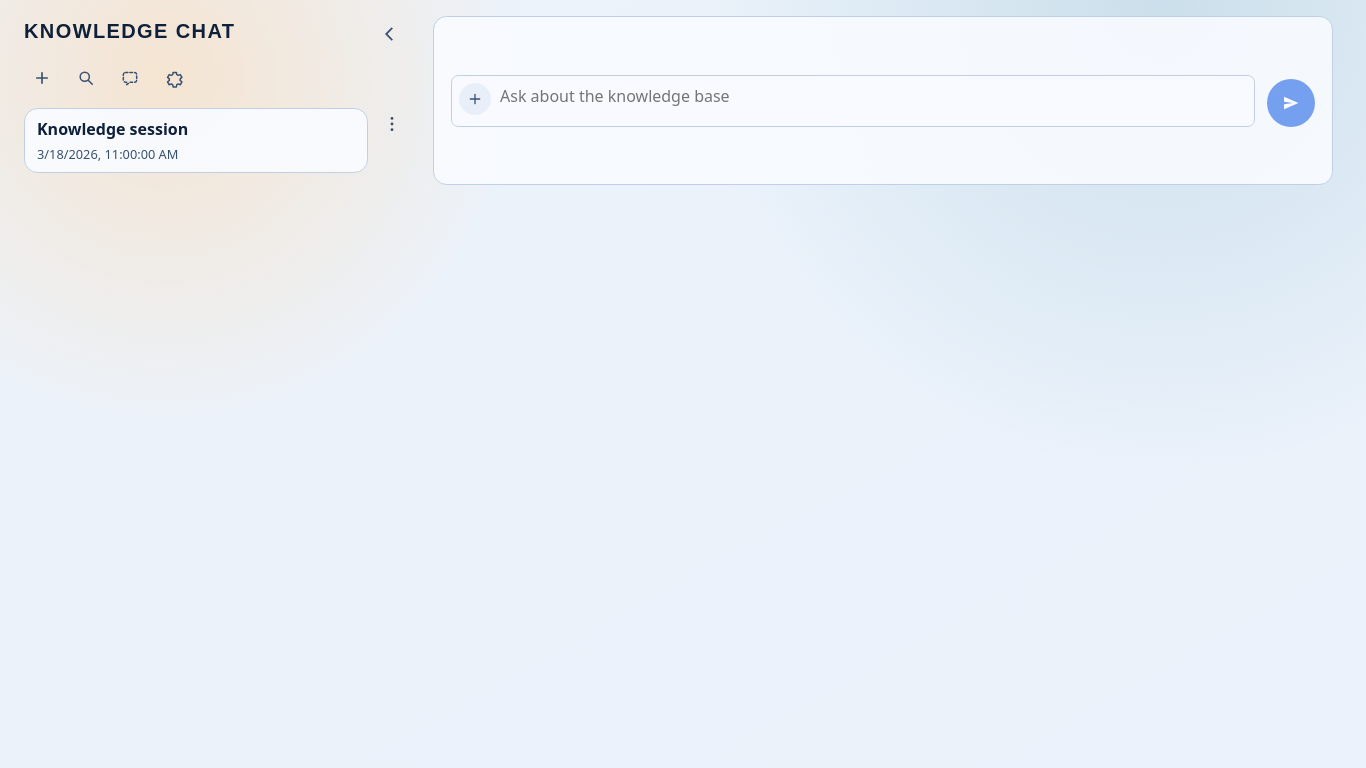
Test: KnowledgePlaygroundPage › collapses the knowledge history into a slim rail while keeping the new-session control available
Click the button named "Chat settings" at [174, 78], box [156, 60, 192, 96]
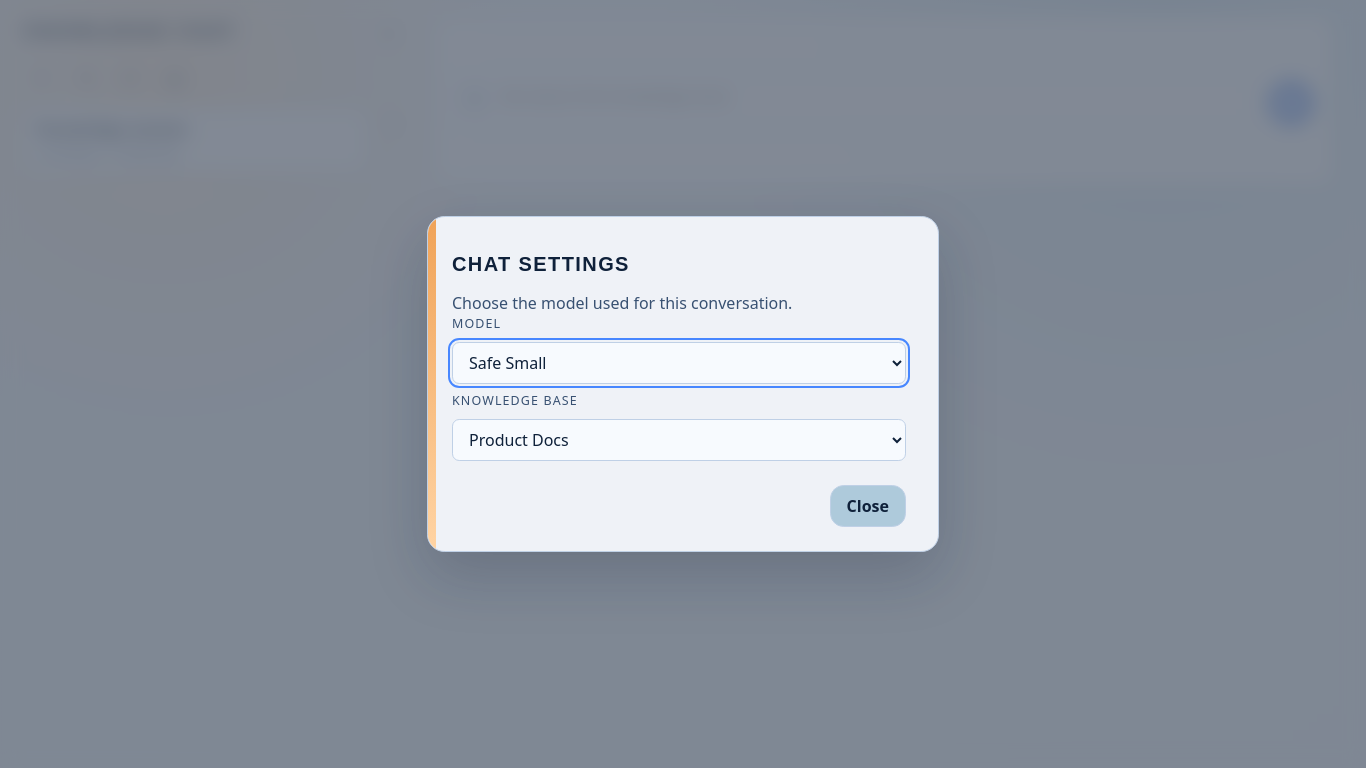
Expected: the dropdown labelled "Knowledge base" shows "Product Docs", [452, 419, 906, 461]
Click the button "Close" at [868, 506], box [830, 485, 906, 527]
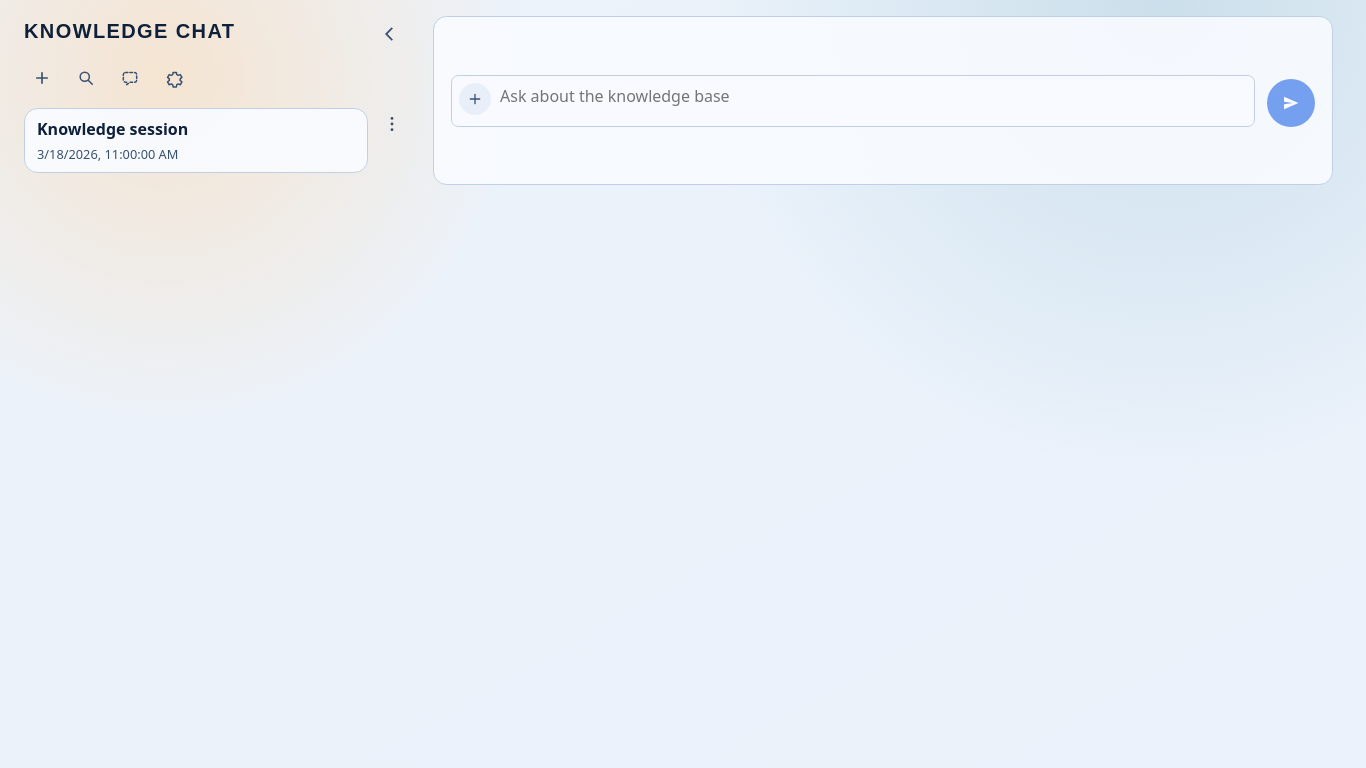
Click the button named "Collapse conversation history" at [390, 34], box [372, 16, 408, 52]
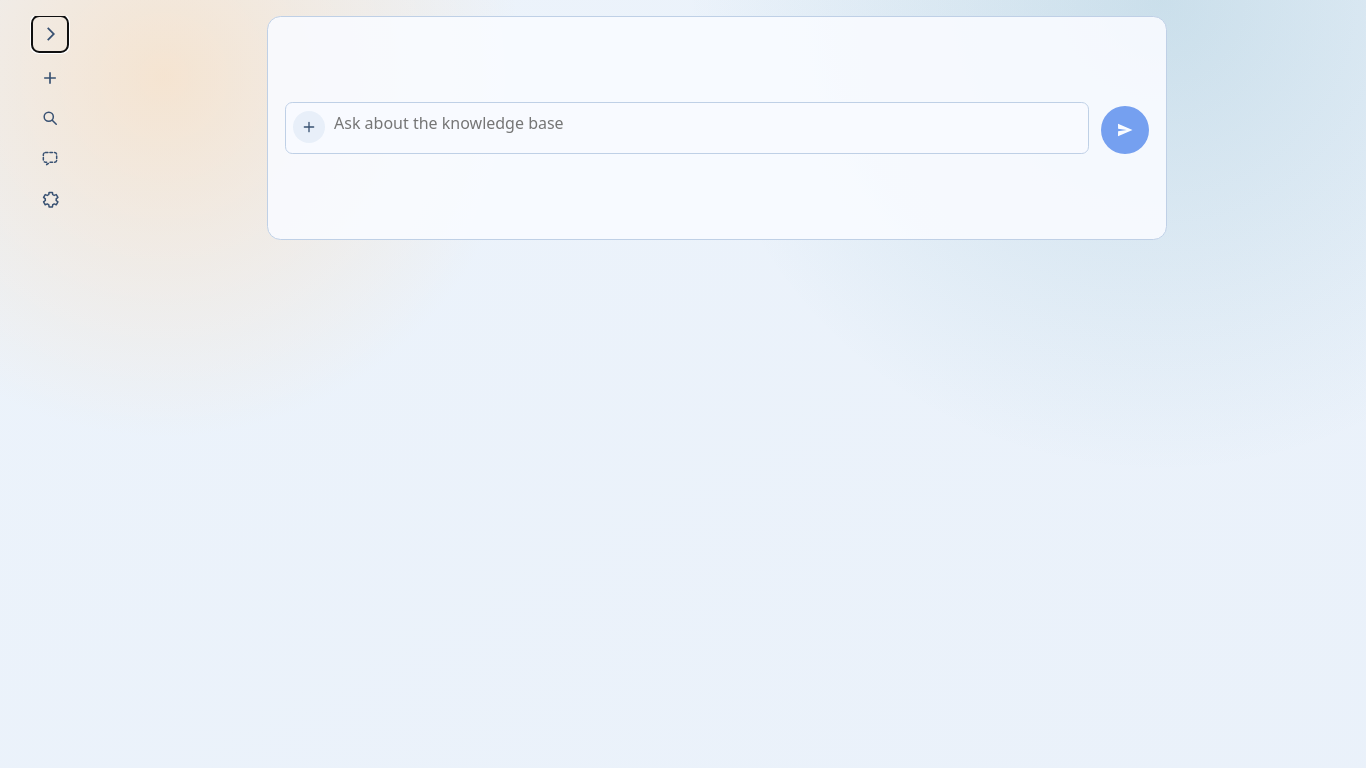
Expected: the button named "New chat" is shown, [32, 60, 68, 96]
Expected: the button named "Expand conversation history" is shown, [32, 16, 68, 52]
Expected: the button "Knowledge session" is gone
